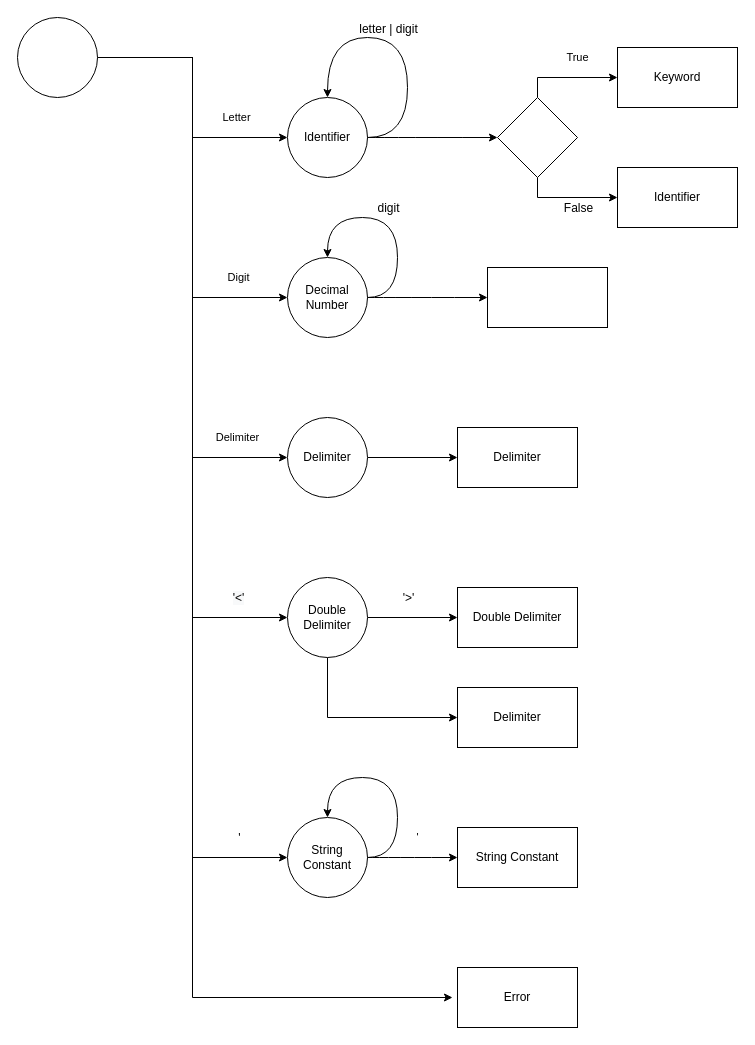
The diagram is 755 pixels wide and 1045 high, and some of its shapes have lost their labels. The centre of each missing label's shape, as x and y in pixels:
Input: (x=57, y=57)
Is a valid Keyword: (x=537, y=137)
Number: (x=547, y=297)
